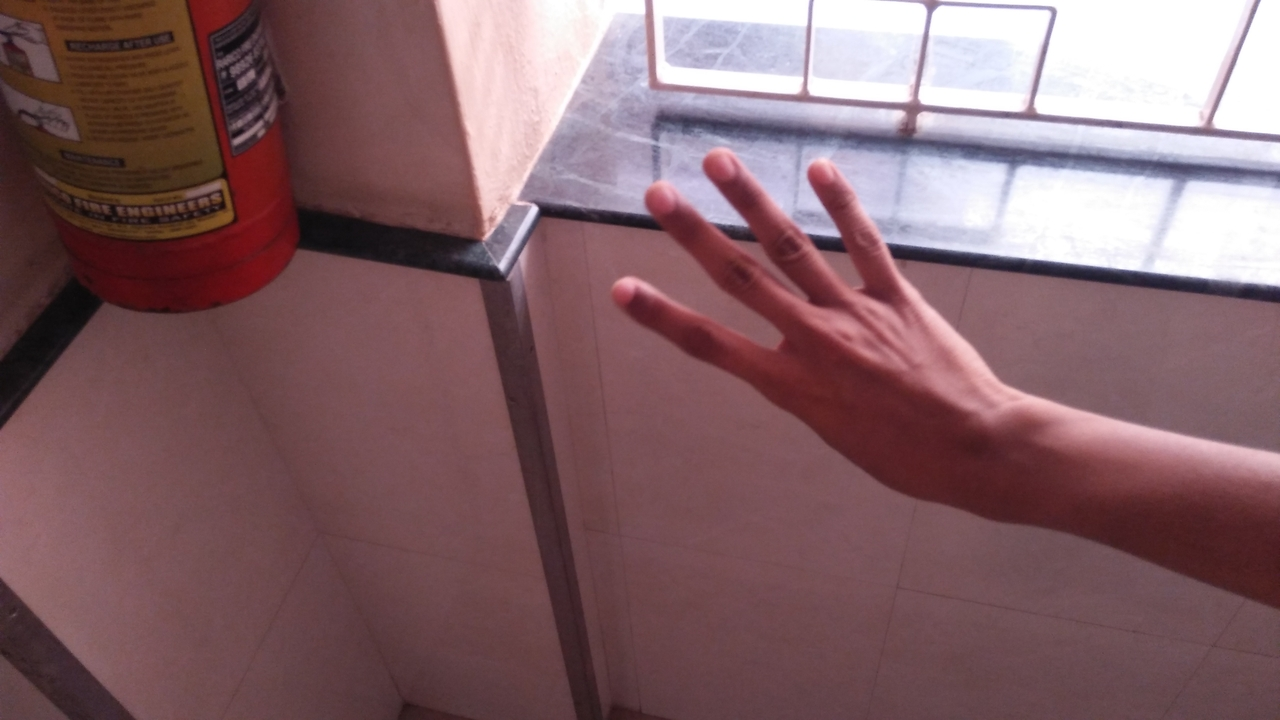fingertip: (600, 264, 668, 324), (800, 146, 862, 198), (696, 138, 756, 186), (640, 170, 692, 218)
